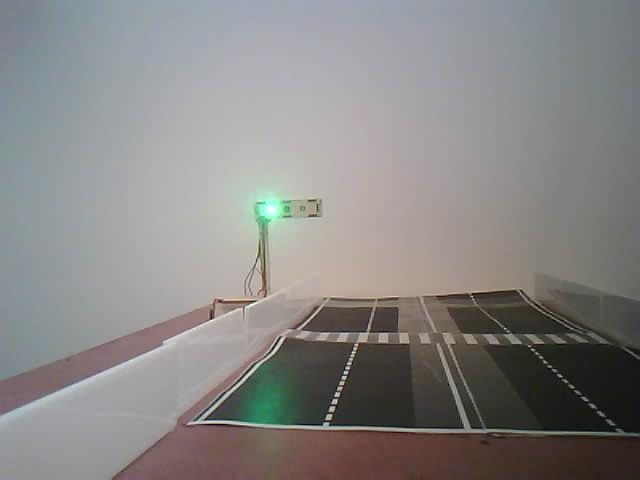crosswalk: (277, 321, 614, 355)
green: (249, 190, 336, 287)
